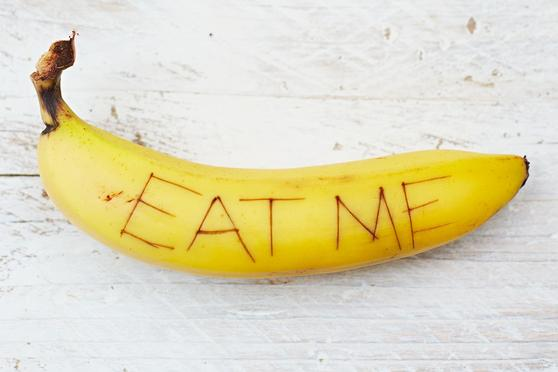banana: (35, 62, 533, 279)
